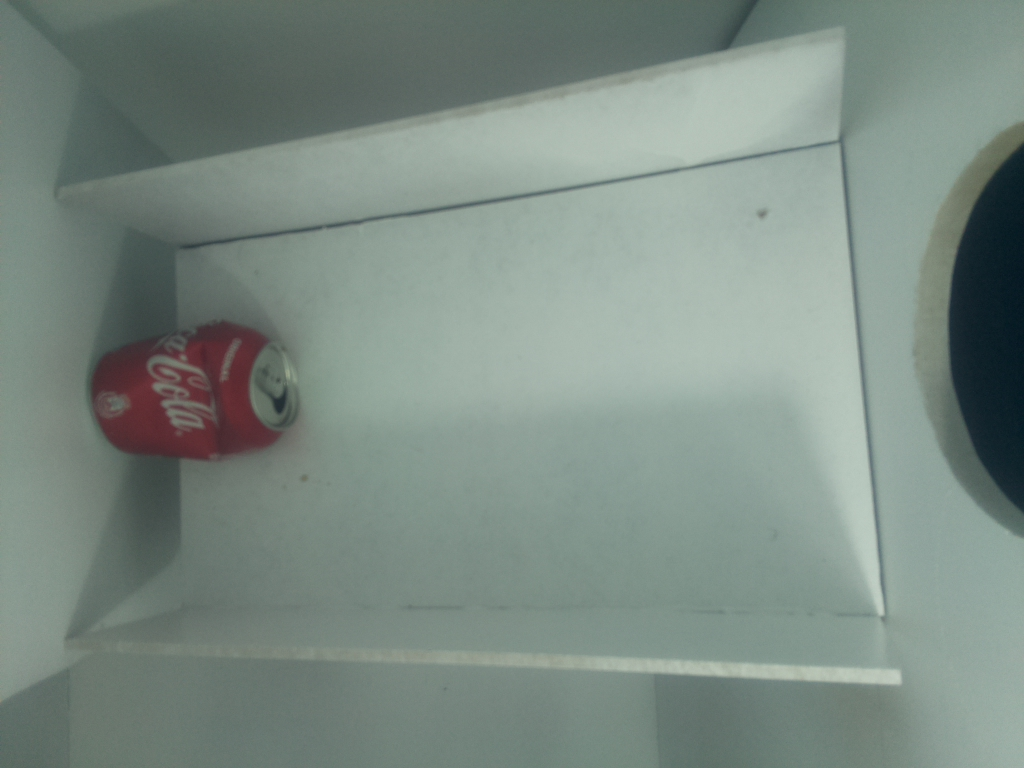kaleng: (91, 317, 304, 461)
